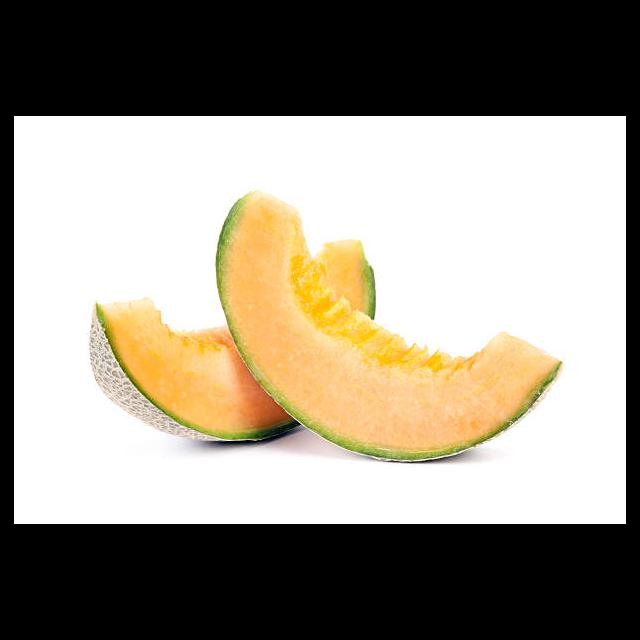Hami Melon: (216, 189, 563, 464)
